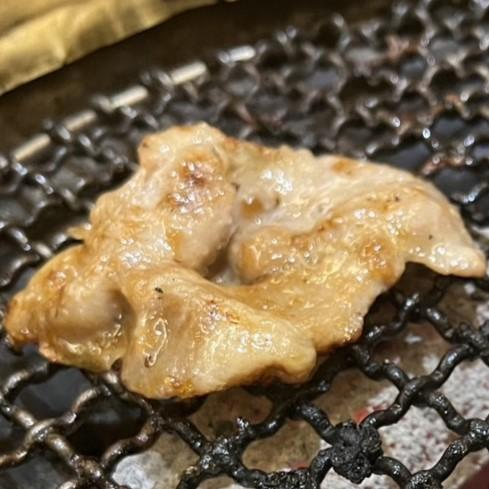Well-Cooked: (4, 123, 484, 398)
